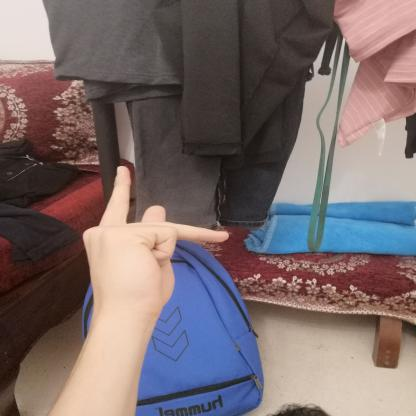DHAA: (70, 157, 238, 328)
